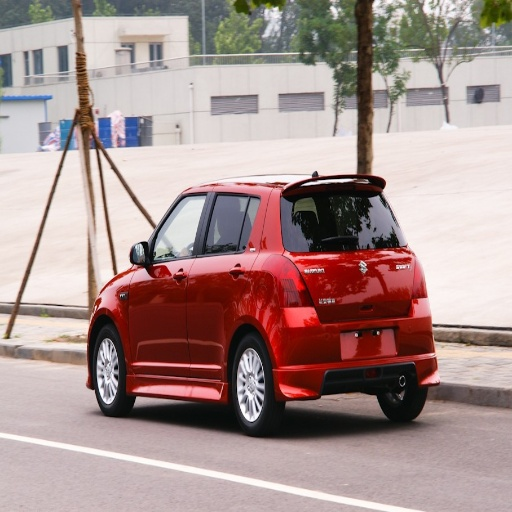back_bumper: (277, 302, 435, 396)
back_glass: (284, 185, 399, 252)
back_left_door: (190, 190, 258, 381)
trunk: (306, 252, 414, 333)
